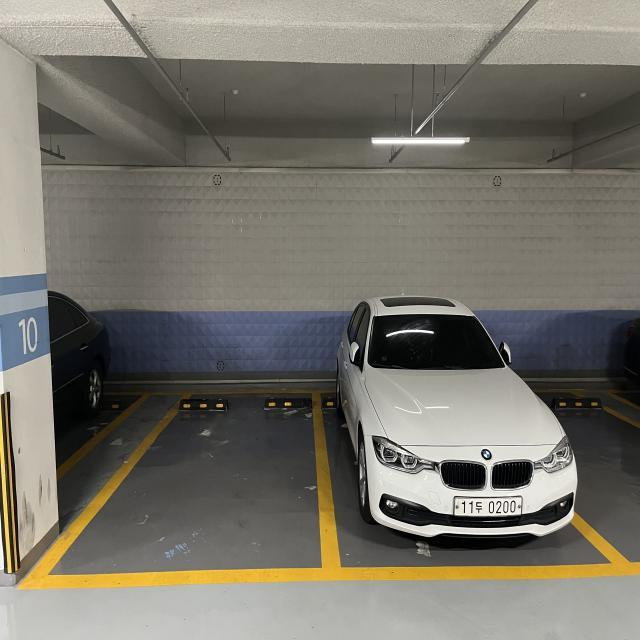empty: (41, 391, 327, 590)
occupied: (342, 261, 596, 564)
